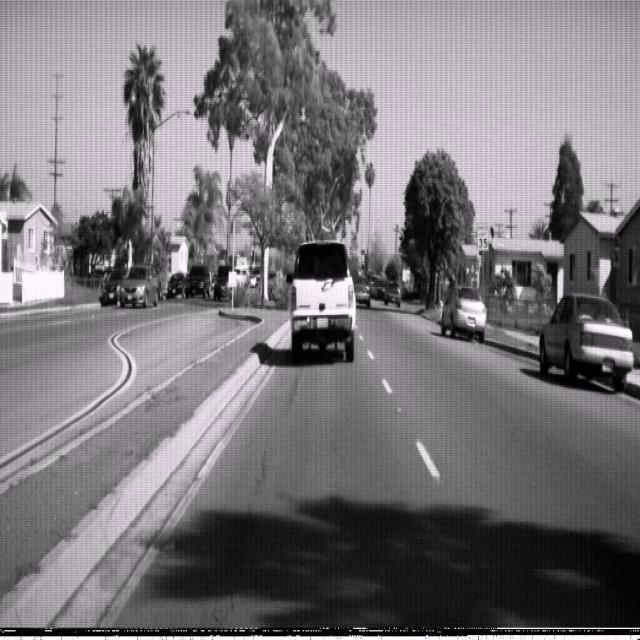speedLimit35: (476, 220, 489, 252)
